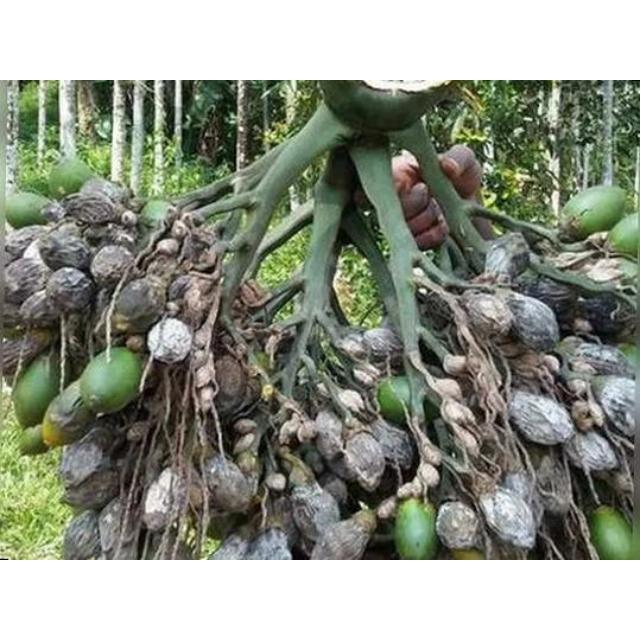damaged: (57, 430, 123, 508), (478, 482, 536, 552), (286, 480, 340, 550), (510, 392, 574, 444), (201, 454, 255, 514), (314, 508, 376, 560), (337, 430, 388, 490), (506, 294, 560, 350), (110, 279, 162, 333), (368, 422, 416, 480), (592, 378, 638, 438), (515, 276, 577, 320), (142, 467, 184, 531), (42, 267, 94, 315), (460, 291, 512, 339), (38, 228, 92, 274), (564, 428, 618, 474), (576, 293, 632, 337), (534, 451, 572, 515), (566, 341, 632, 377), (436, 501, 480, 554), (97, 499, 137, 556), (484, 233, 530, 281), (63, 510, 105, 560), (89, 245, 135, 288), (168, 274, 210, 320), (418, 286, 458, 332), (312, 411, 346, 461), (17, 288, 61, 326), (242, 527, 294, 559), (4, 225, 48, 262), (360, 327, 402, 365), (266, 328, 298, 376), (178, 228, 216, 268), (143, 249, 181, 289), (335, 330, 373, 368), (97, 224, 139, 258), (501, 470, 535, 510), (84, 177, 128, 207), (66, 338, 90, 382), (442, 400, 476, 428), (188, 438, 218, 469), (233, 448, 260, 482), (320, 475, 348, 507), (336, 388, 366, 416), (278, 415, 304, 447), (608, 466, 634, 496), (162, 537, 196, 559), (432, 377, 463, 401), (26, 326, 54, 352), (83, 222, 113, 246), (454, 428, 480, 454), (420, 440, 444, 468), (556, 336, 586, 358), (126, 420, 152, 444), (418, 462, 440, 490), (194, 365, 216, 393), (442, 354, 468, 376), (192, 324, 212, 351), (233, 433, 257, 455), (154, 238, 180, 258), (264, 472, 288, 492), (233, 418, 259, 436), (377, 498, 398, 520), (170, 218, 190, 240), (541, 355, 561, 375), (200, 384, 217, 406), (120, 210, 138, 228)
